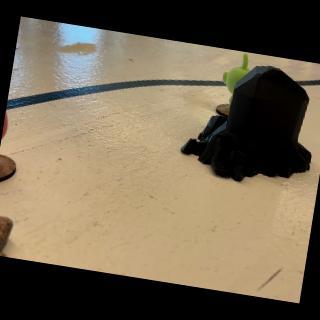teletubby: (222, 53, 250, 109), (1, 111, 8, 140)
